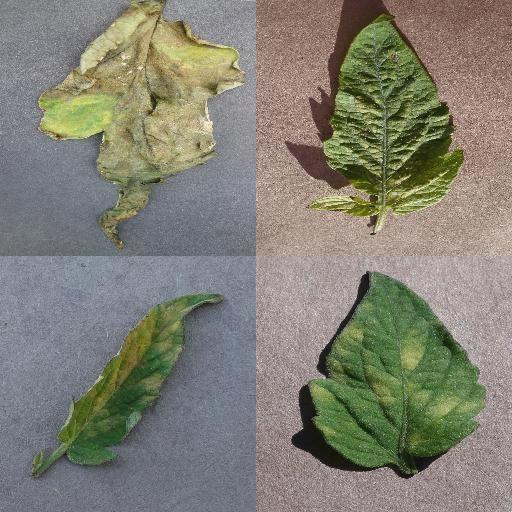Late Blight: (35, 0, 245, 250)
Leaf Mold: (309, 269, 487, 469), (57, 293, 222, 465)
Spider Mites: (307, 12, 467, 216)
